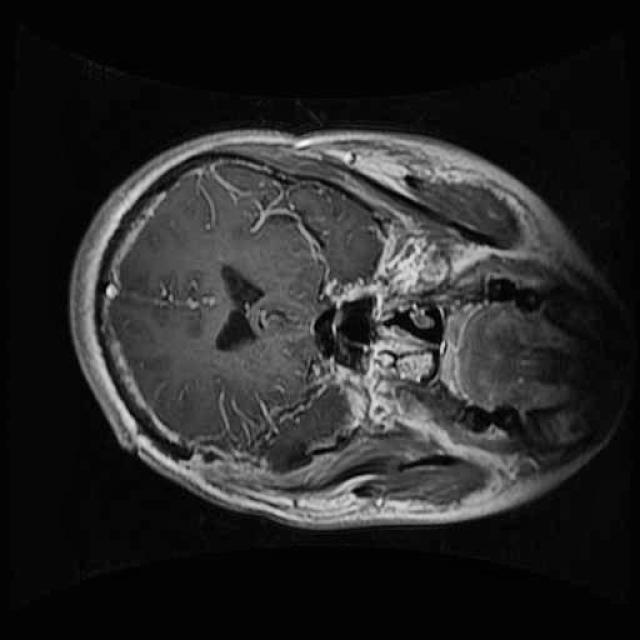Tumor: (227, 374, 353, 481)
